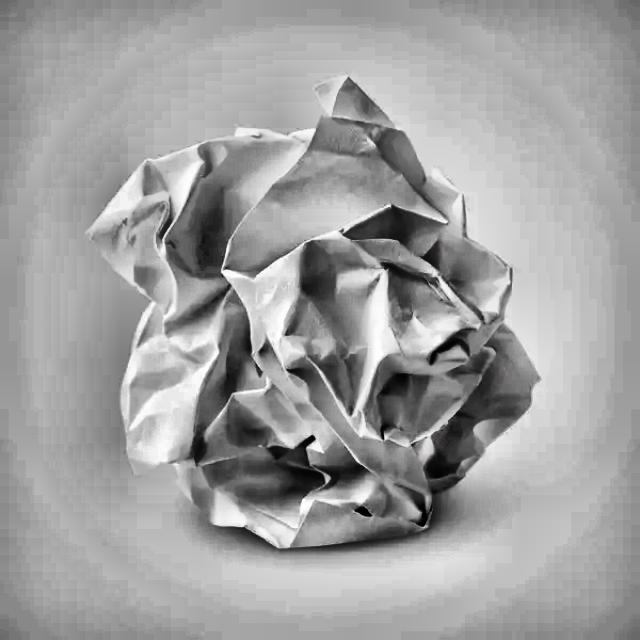Paper: (79, 67, 547, 560)
